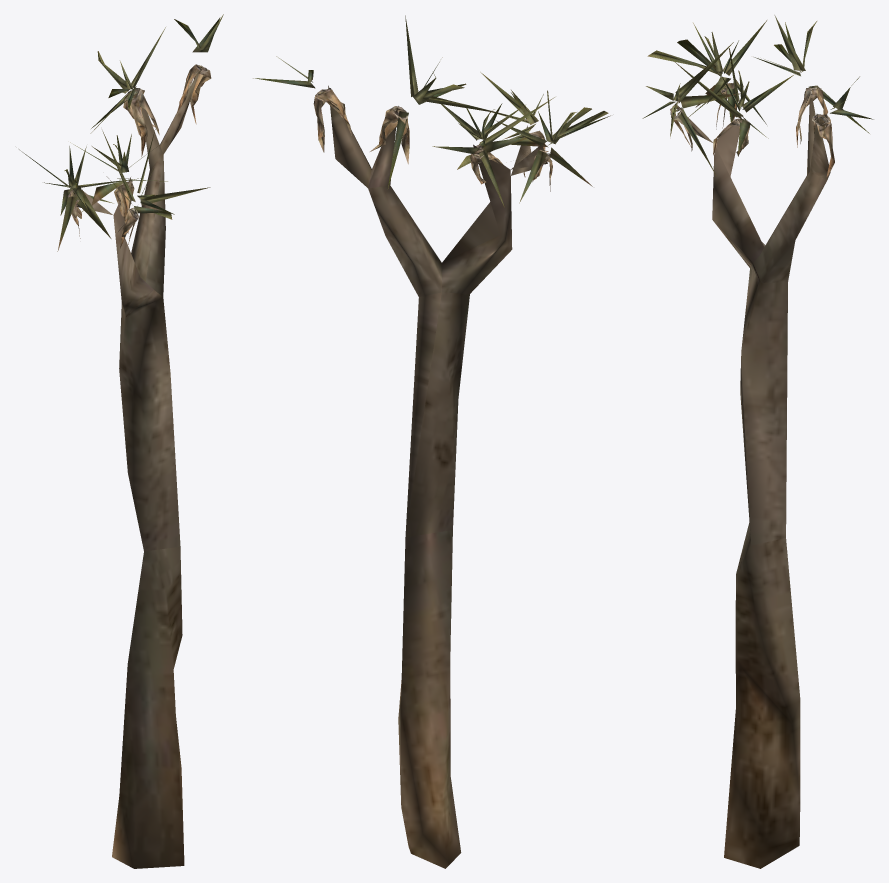
Rendered from tree_broad.glb.
The picture shows the model from 3 angles, left to right: view 1: azimuth 30°, elevation 25°; view 2: azimuth 150°, elevation 25°; view 3: azimuth 270°, elevation 25°; orthographic projection. The views are drawn at different scales.
Parts seen in each view (by area): view 1: quiver_tree_01; view 2: quiver_tree_01; view 3: quiver_tree_01.
Boxes of the visible parts, x1,y1,x2,y2 form: quiver_tree_01: (19, 14, 223, 868); quiver_tree_01: (253, 15, 610, 868); quiver_tree_01: (642, 15, 873, 868).
Size of the model in its own units: 0.8918 by 2.63 by 0.649.
2 materials, 2 textured.
